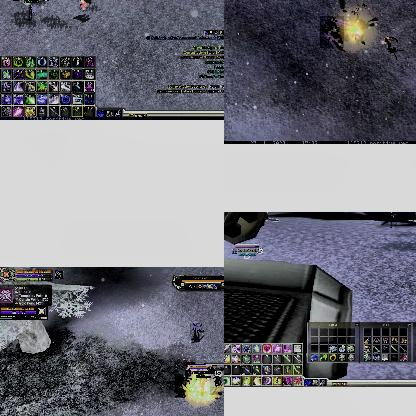caliana: (320, 16, 344, 48), (337, 0, 363, 20), (210, 377, 222, 395), (381, 212, 396, 226), (190, 323, 202, 337), (175, 374, 183, 390), (408, 212, 416, 221)
